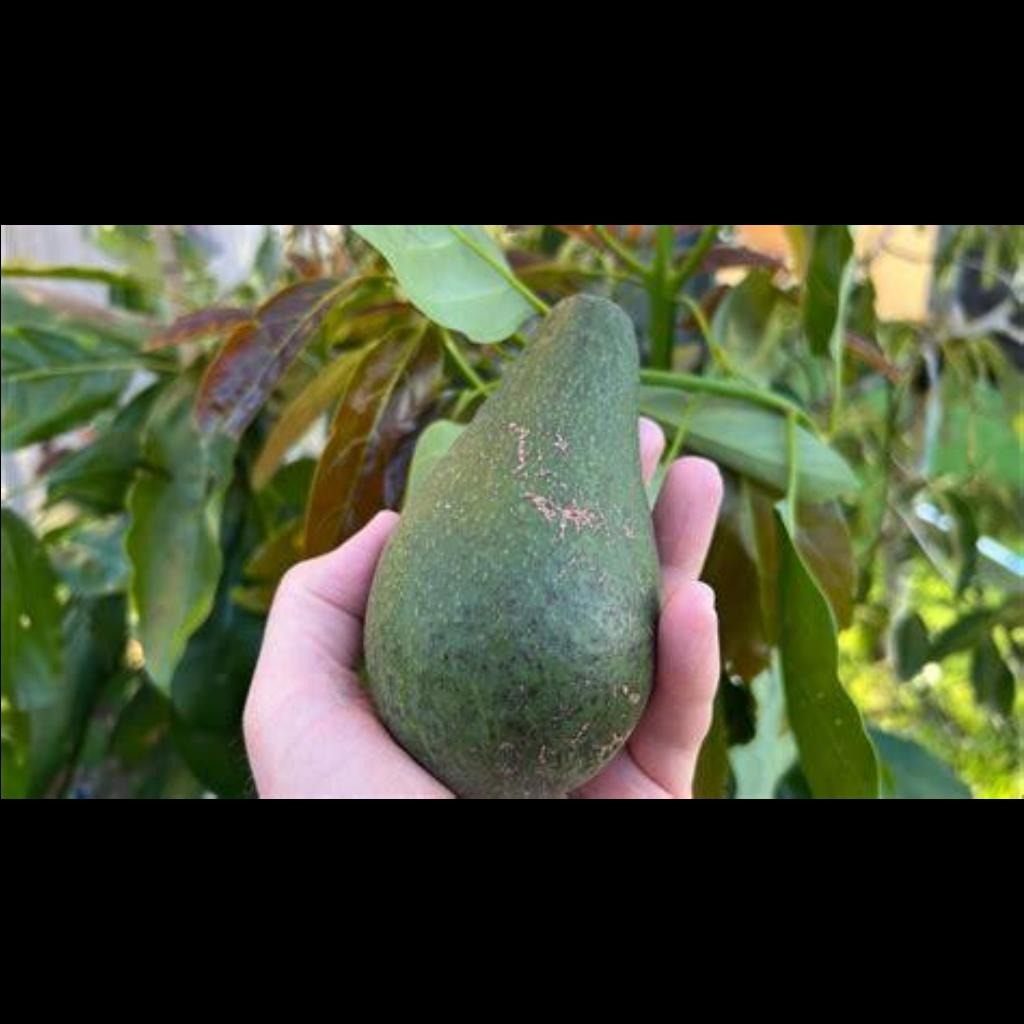Healthy: (362, 368, 660, 782)
